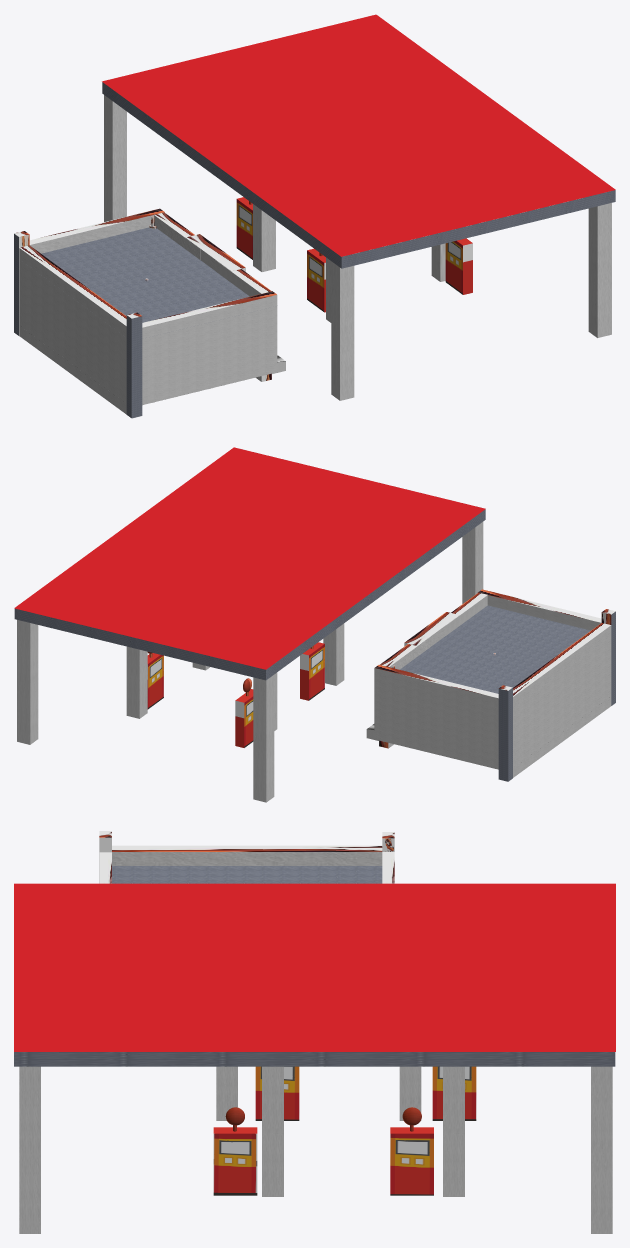
The model's file is levelbuilding.glb.
3 views of the same model, one above another, from view 1: azimuth 30°, elevation 25°; view 2: azimuth 150°, elevation 25°; view 3: azimuth 270°, elevation 25° (orthographic). The views are drawn at different scales.
Parts seen in each view (by area): view 1: Cube; view 2: Cube; view 3: Cube.
Part boxes in pixels (left/top/right/bottom): Cube: left=14, top=14, right=615, bottom=418; Cube: left=14, top=447, right=615, bottom=802; Cube: left=14, top=831, right=615, bottom=1233.
Size of what is drawn, in the model's own units: 44.31 by 13.71 by 40.84.
Materials: 9 (9 with a texture image).
